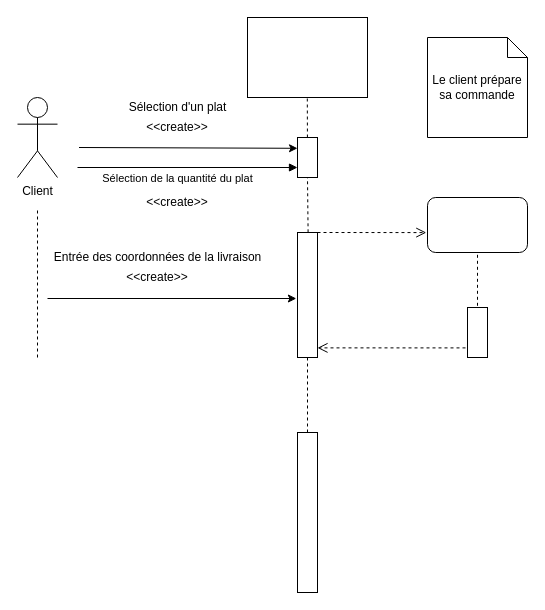
Image size: 545x610. Some labels were removed from this diagram. The centre of each missing label's shape, as x and y in pixels:
:ExpressFood: (307,57)
Gestion des coordonnées de la livraison: (477,224)
